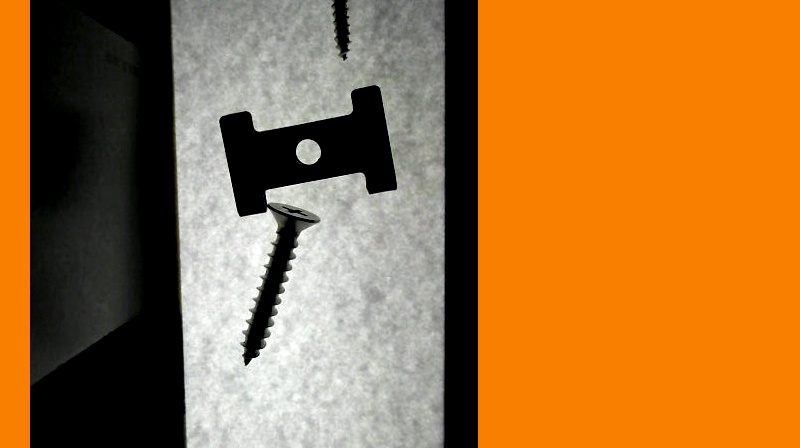O001: (293, 0, 371, 65)
O002: (217, 84, 397, 217)
S001: (240, 200, 320, 364)
